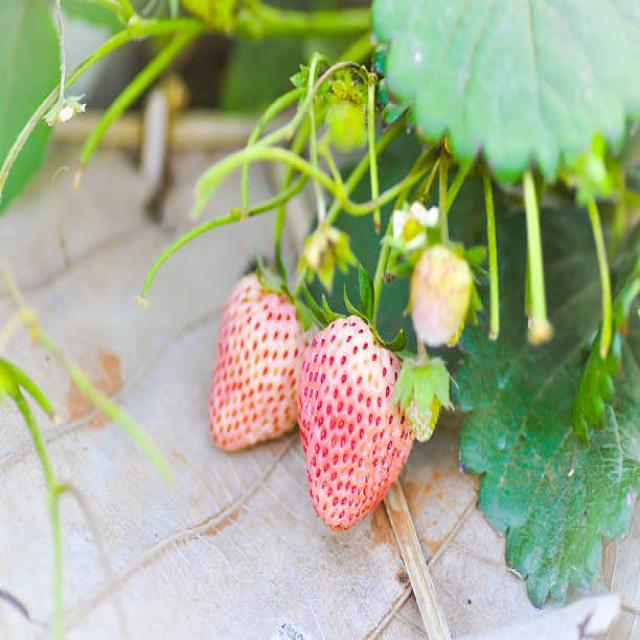Healthy Fruit: (295, 318, 414, 528), (206, 272, 318, 451)
